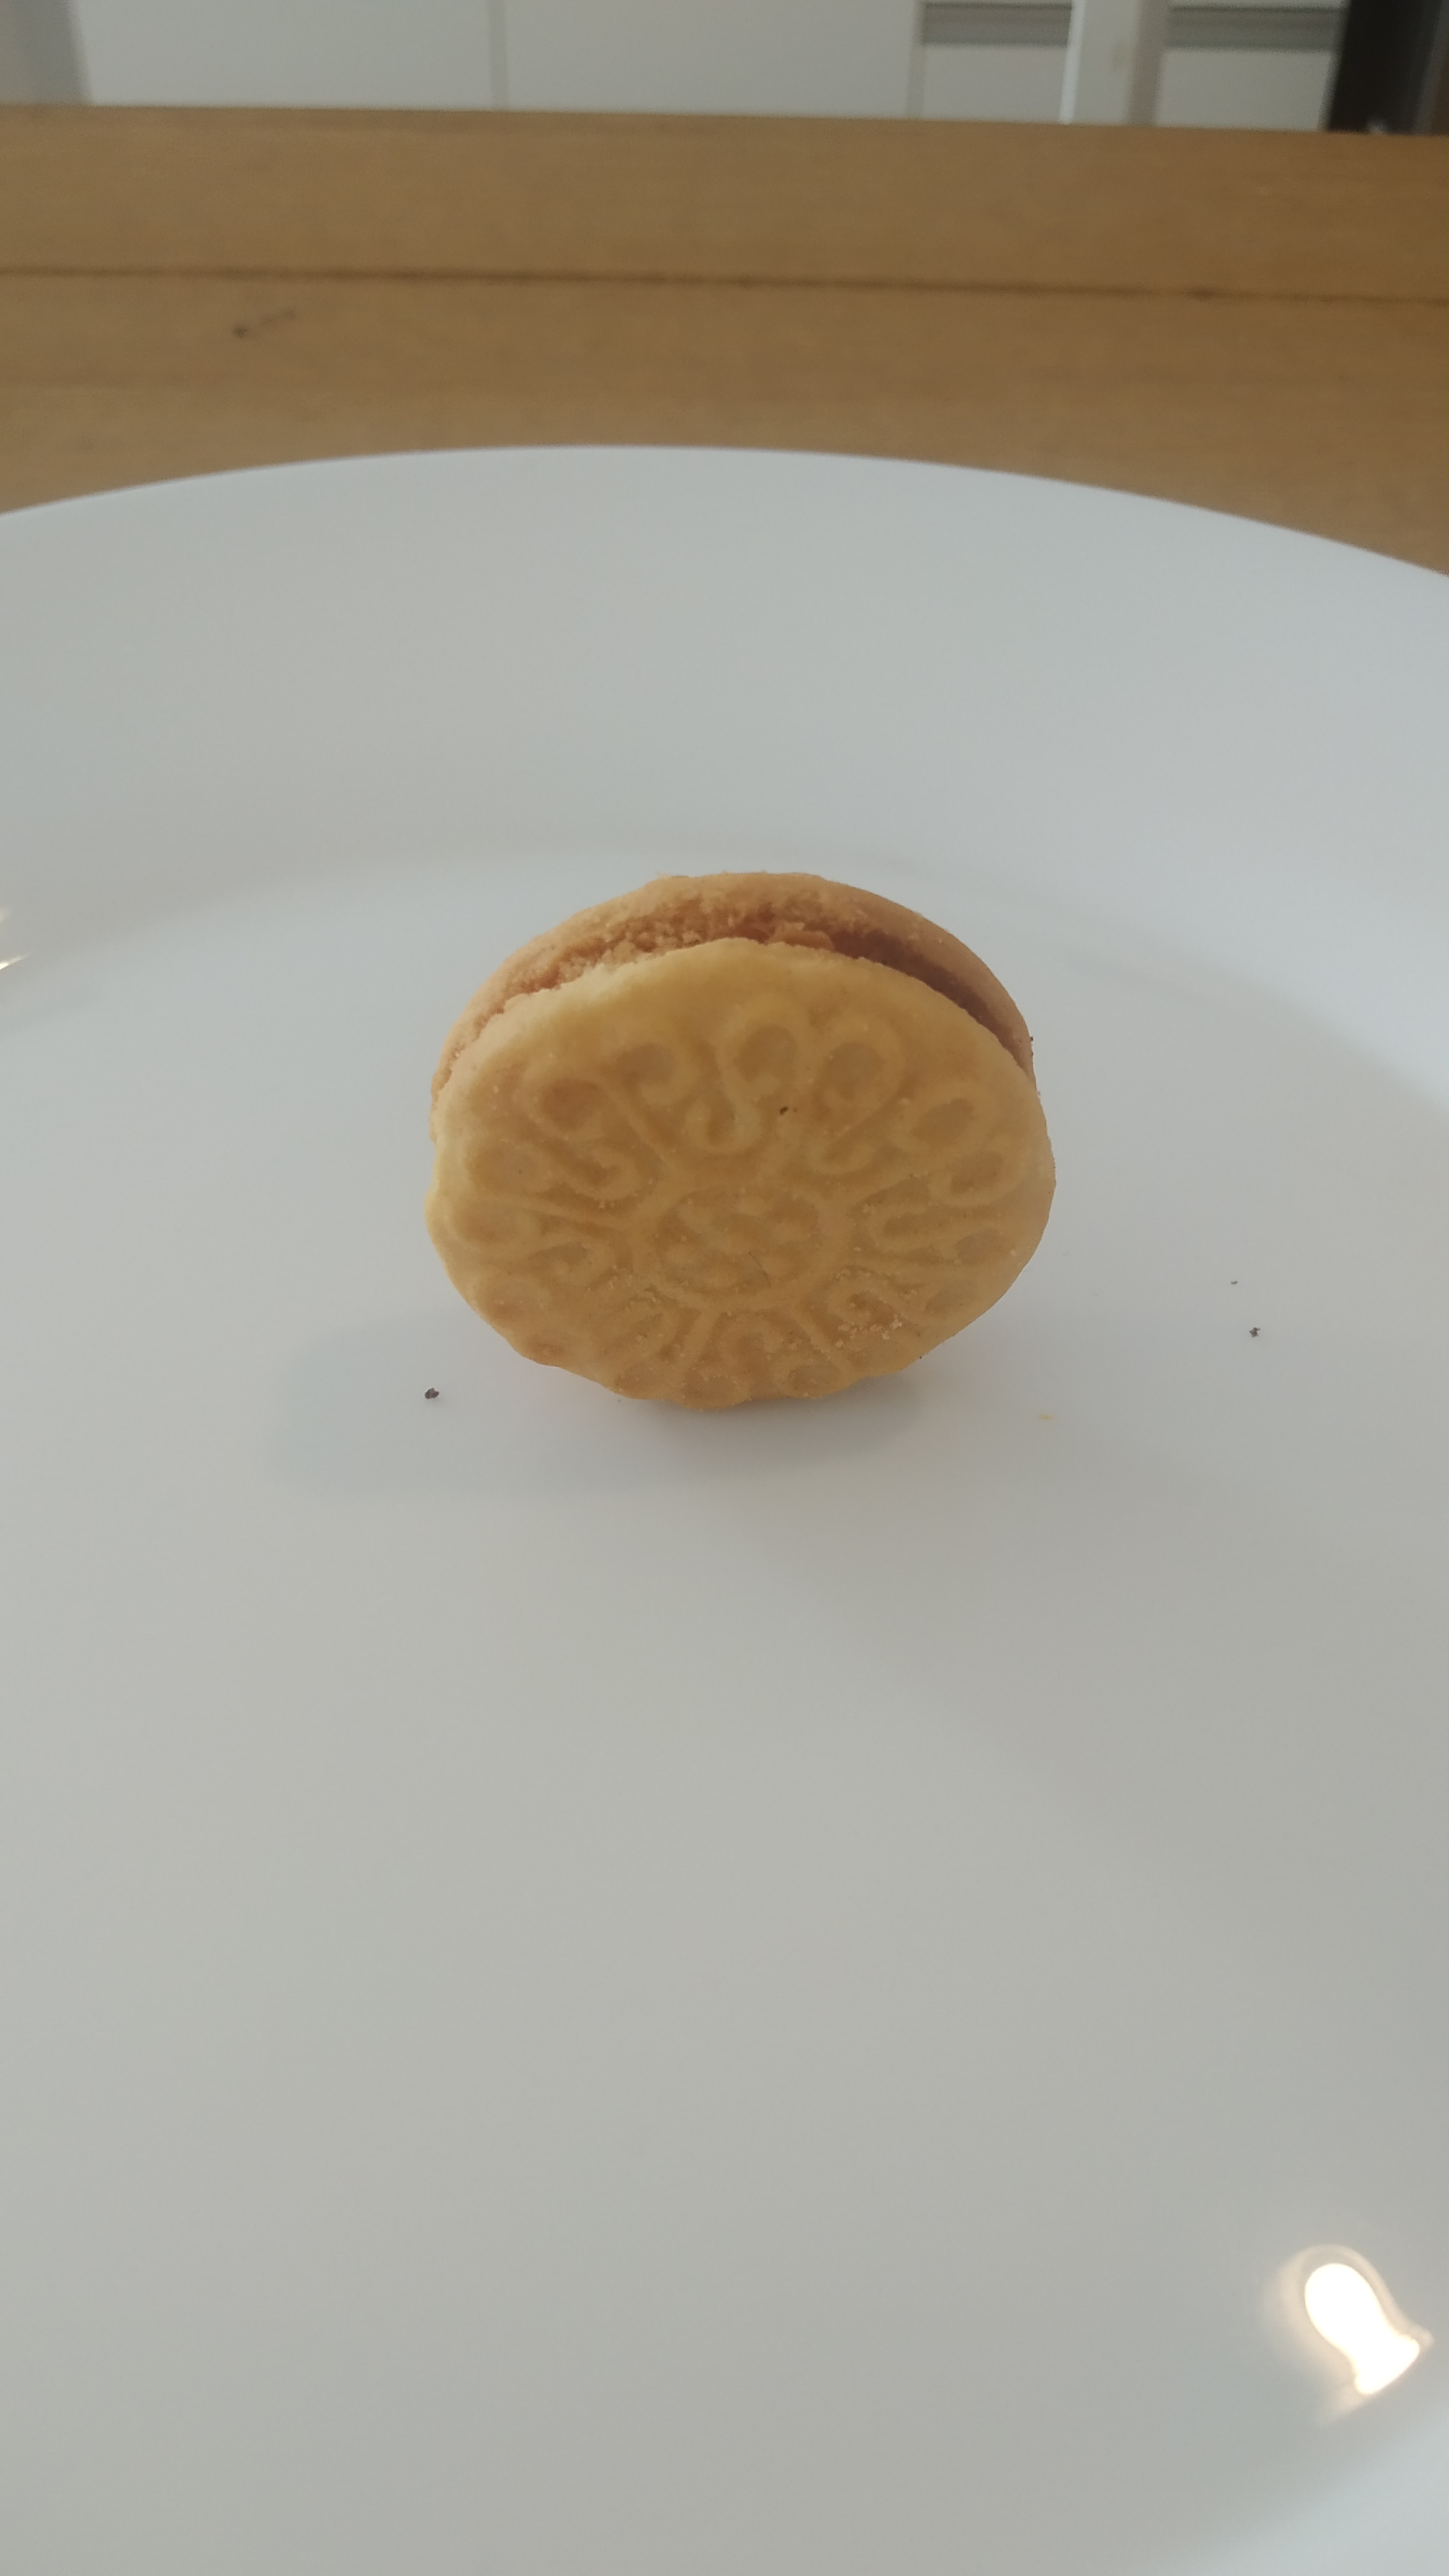lulu: (421, 865, 1056, 1407)
